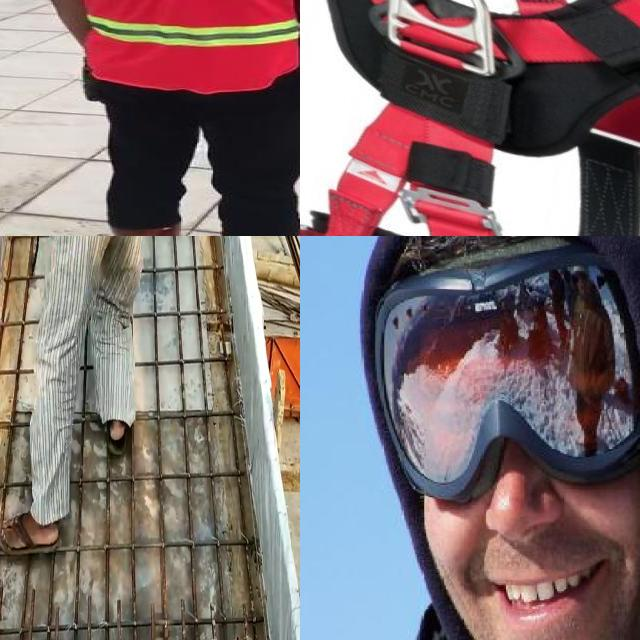Harness: (300, 0, 640, 236)
Sandals: (0, 502, 65, 554)
face_nomask: (361, 258, 640, 640)
glasses: (365, 236, 640, 483)
person: (29, 0, 300, 236)
vest: (47, 0, 300, 94)
